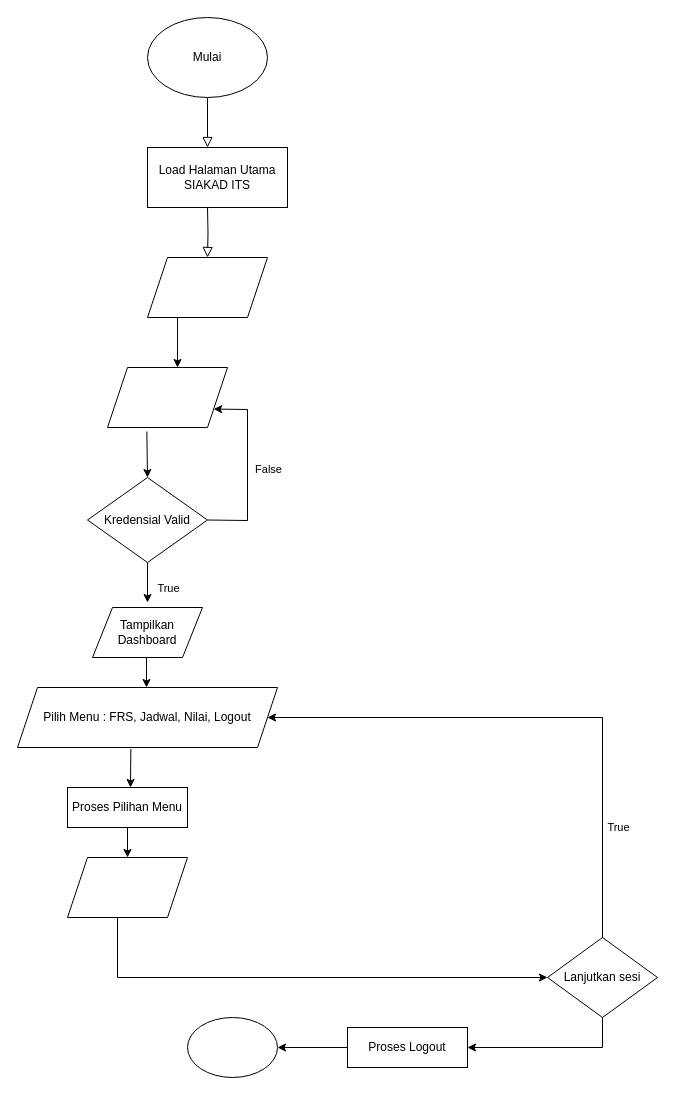
Image size: 675x1095. Some labels were removed from this diagram. Here are the shapes that lost their labels. From the top down, the box of each, then its label:
(146, 256, 268, 318): Tampilkan Form Login
(106, 366, 228, 428): Input NIM & Password
(66, 856, 188, 918): Tampilkan Hasil Sesuai Pilihan
(186, 1016, 278, 1078): End
